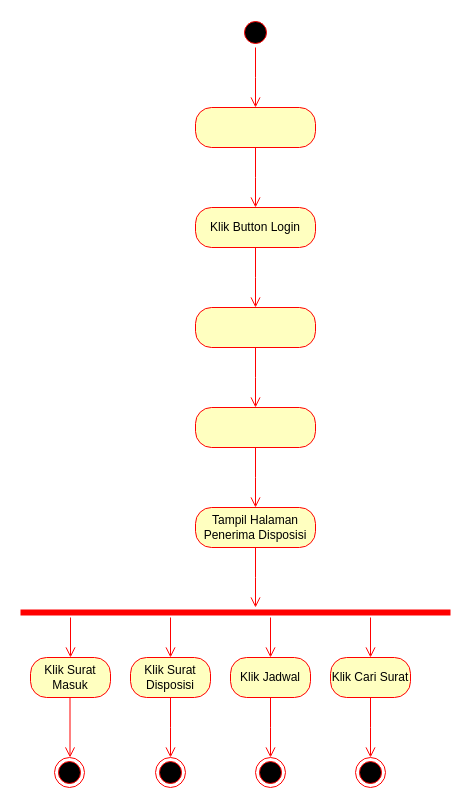
The diagram is 470 pixels wide and 805 high, and some of its shapes have lost their labels. Each missing label, with the centre of its shape:
Halaman Login: the point at 255,327
Input Email dan Password: the point at 255,427
Masukan URL: the point at 255,127
